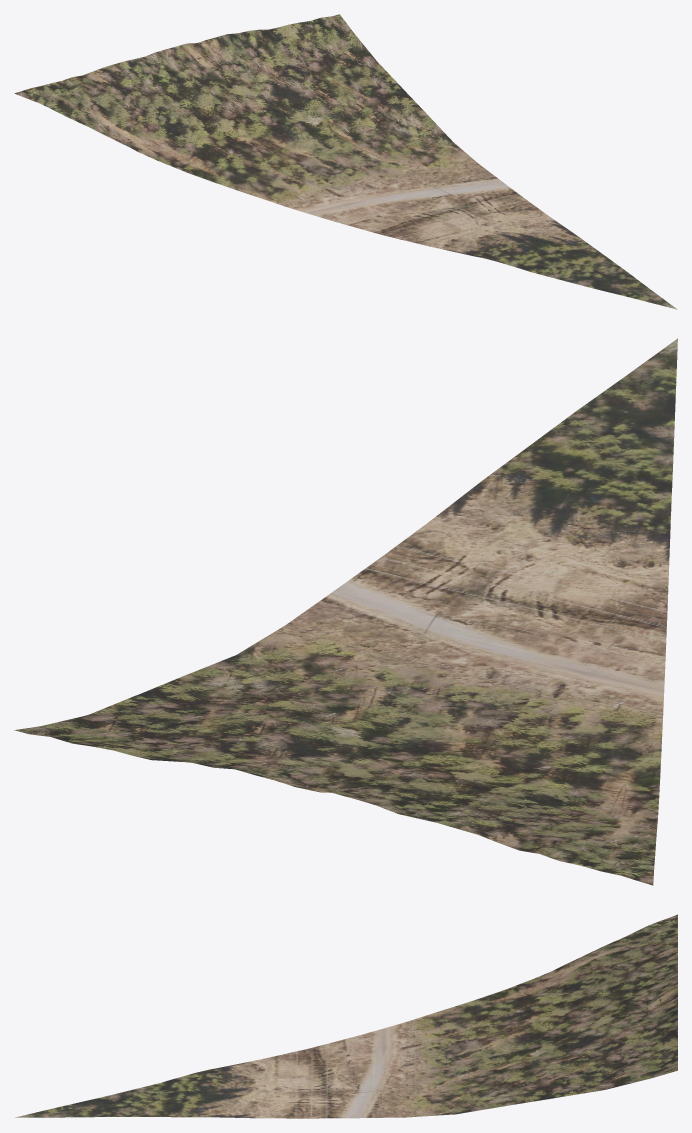
The model's file is CM_Terrain_24490458_6816517.fbx.
3 views of the same model, one above another, from view 1: azimuth 30°, elevation 25°; view 2: azimuth 150°, elevation 25°; view 3: azimuth 270°, elevation 25° (orthographic). The views are drawn at different scales.
Parts seen in each view (by area): view 1: CM_Terrain_24490458_6816517_LOD0; view 2: CM_Terrain_24490458_6816517_LOD0; view 3: CM_Terrain_24490458_6816517_LOD0.
Part boxes in pixels (bbox=[...]): CM_Terrain_24490458_6816517_LOD0: bbox=[14, 14, 677, 309]; CM_Terrain_24490458_6816517_LOD0: bbox=[14, 338, 677, 885]; CM_Terrain_24490458_6816517_LOD0: bbox=[15, 914, 677, 1118].
Size of what is drawn, in the model's own units: 113 by 18.79 by 203.
